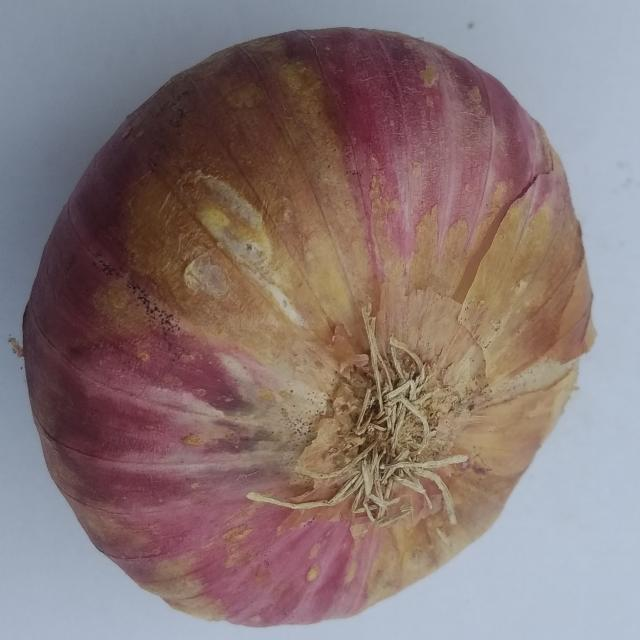onion: (15, 22, 603, 628)
